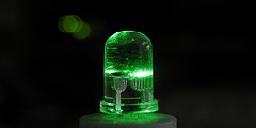LED: (97, 30, 161, 115)
